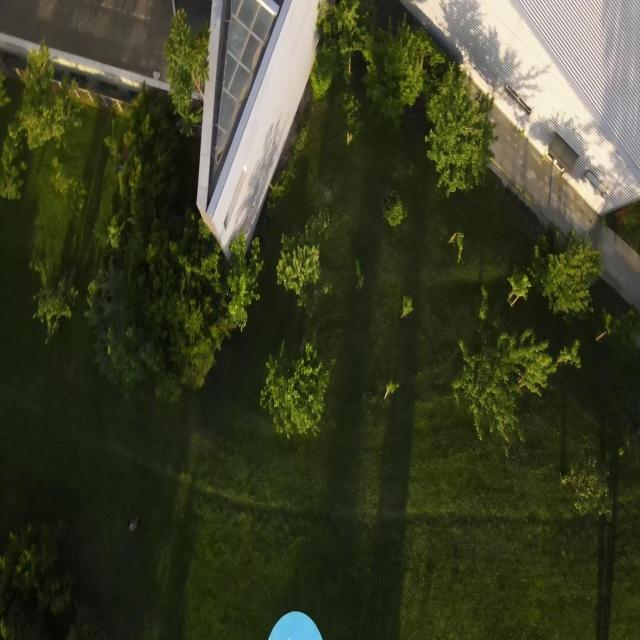p3rson: (127, 516, 144, 535)
